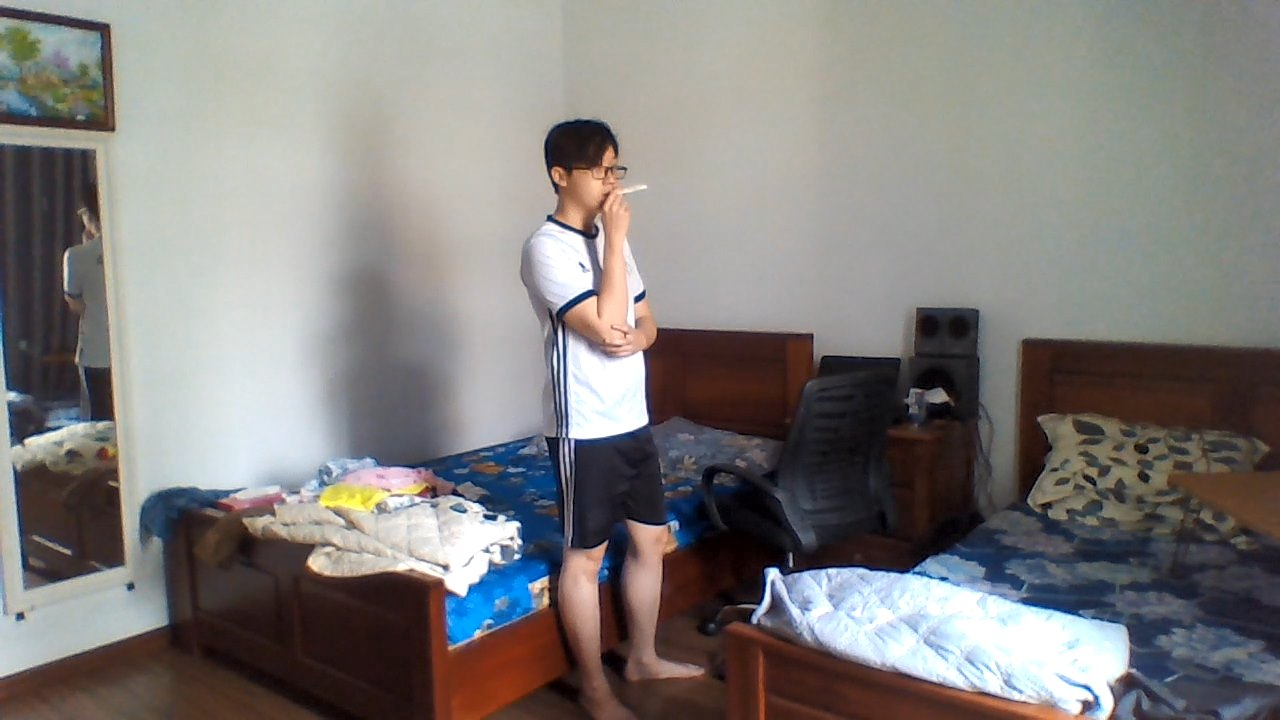cigarette: (617, 180, 649, 198)
person: (496, 100, 721, 699)
